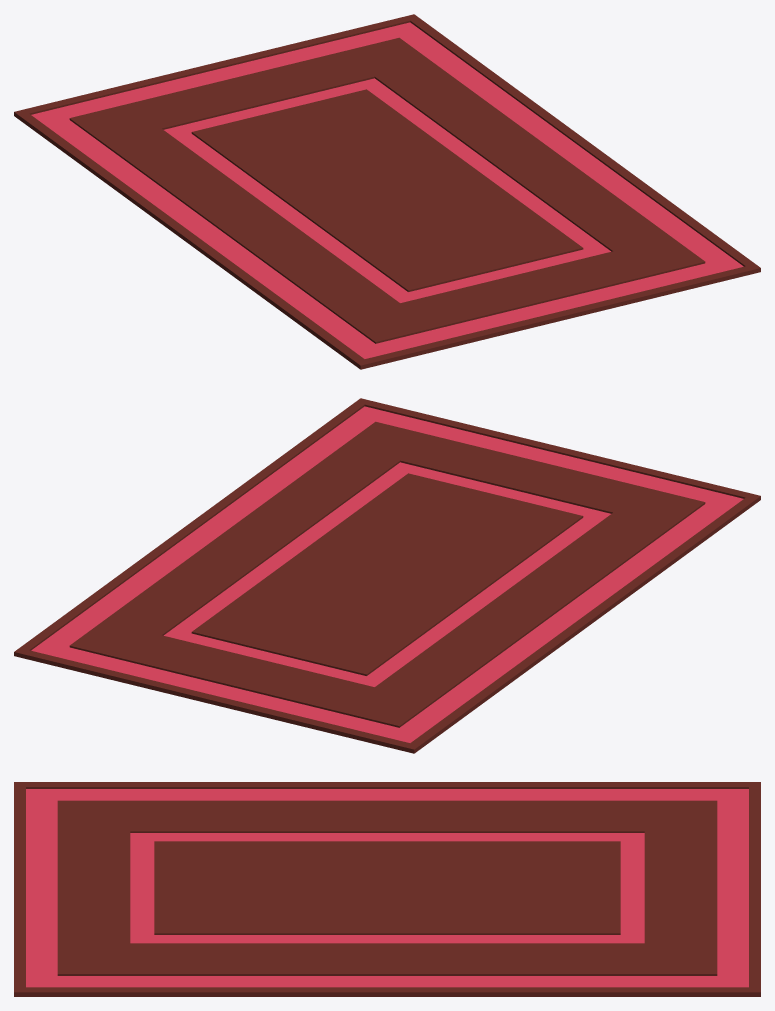
File: Itr_Carpet2_01.FBX
3 renders of one model, top to bottom at view 1: azimuth 30°, elevation 25°; view 2: azimuth 150°, elevation 25°; view 3: azimuth 270°, elevation 25°, orthographic. The views are drawn at different scales.
Visible parts, largest first — view 1: Itr_Carpet2_01; view 2: Itr_Carpet2_01; view 3: Itr_Carpet2_01.
Boxes of the visible parts, left/top/right/bottom form: Itr_Carpet2_01: left=14, top=14, right=760, bottom=369; Itr_Carpet2_01: left=14, top=398, right=760, bottom=753; Itr_Carpet2_01: left=14, top=782, right=760, bottom=996.
Bounding box in the file's own units: 105 × 1.05 × 158.
